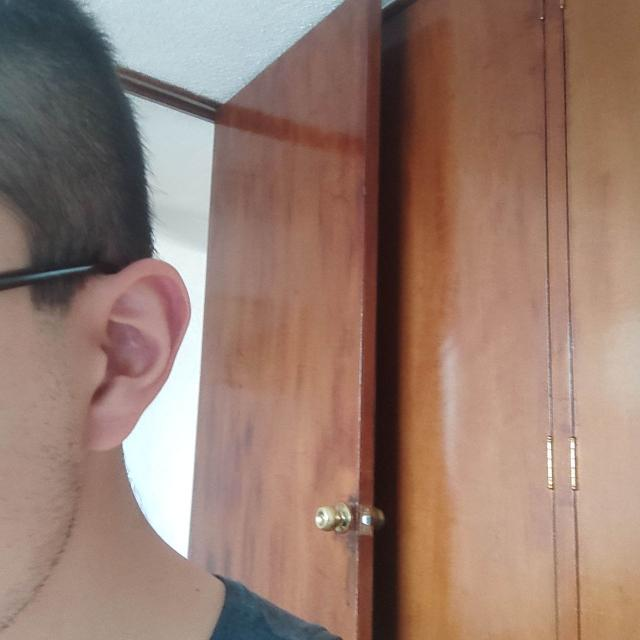ear: (84, 257, 190, 451)
